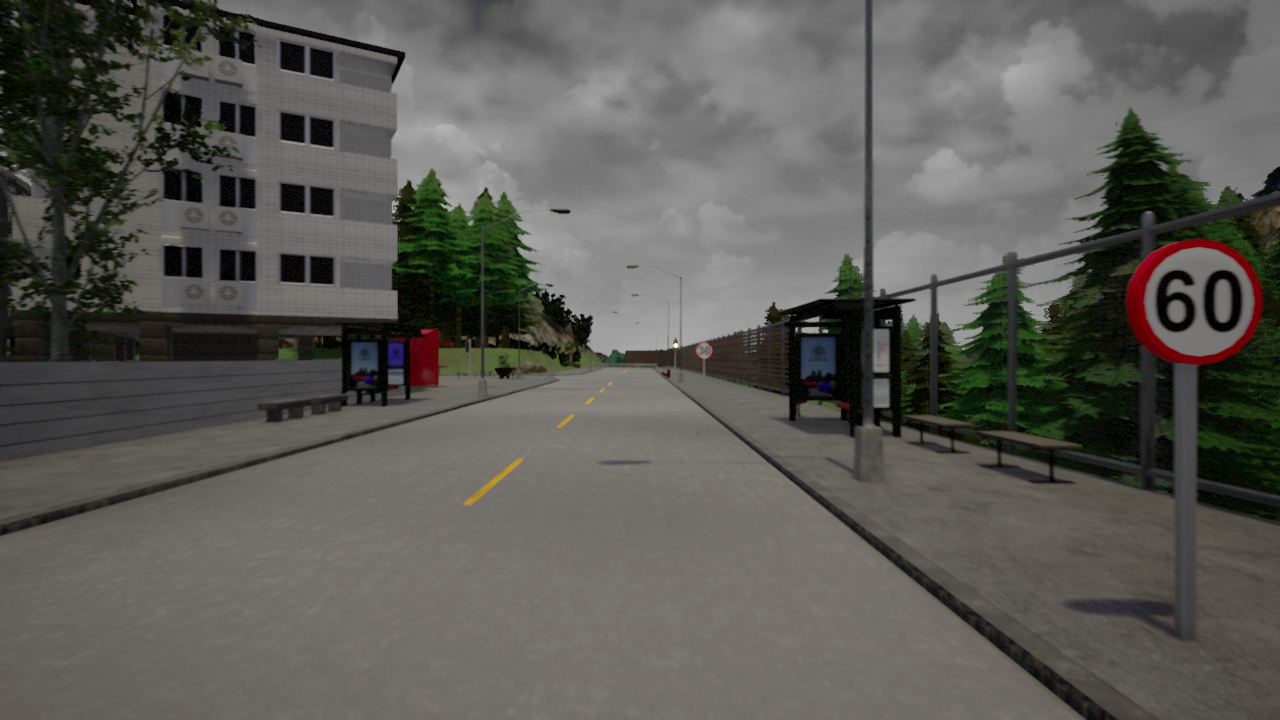yellow: (673, 339, 678, 350)
